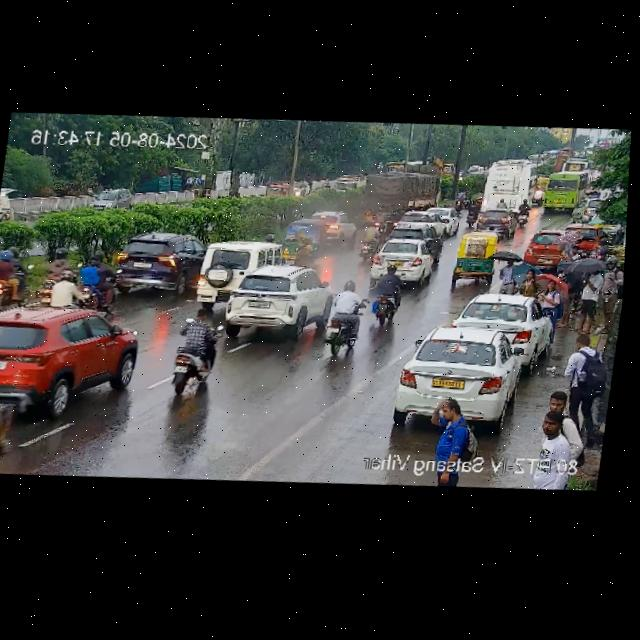car: (0, 293, 149, 414), (390, 319, 533, 430), (210, 255, 331, 345), (194, 234, 291, 315), (104, 224, 203, 301), (453, 286, 554, 359), (373, 232, 443, 284), (448, 225, 504, 284), (0, 378, 29, 476), (535, 166, 593, 214), (388, 205, 459, 241), (525, 230, 568, 270), (84, 183, 134, 213), (474, 206, 519, 237), (0, 190, 16, 228)
motorcycle: (159, 309, 228, 400), (39, 243, 115, 310), (317, 277, 373, 362), (366, 258, 416, 328), (0, 239, 30, 308), (454, 184, 483, 212), (464, 196, 480, 228), (516, 196, 530, 226)
person: (527, 386, 589, 492), (558, 328, 609, 441), (426, 396, 484, 462), (566, 263, 604, 337), (595, 256, 625, 332), (536, 277, 567, 341), (492, 255, 536, 296), (557, 274, 574, 327), (499, 254, 519, 296), (521, 266, 539, 296), (590, 235, 611, 259), (569, 244, 583, 259)
truck: (364, 150, 448, 216), (464, 155, 537, 216)
